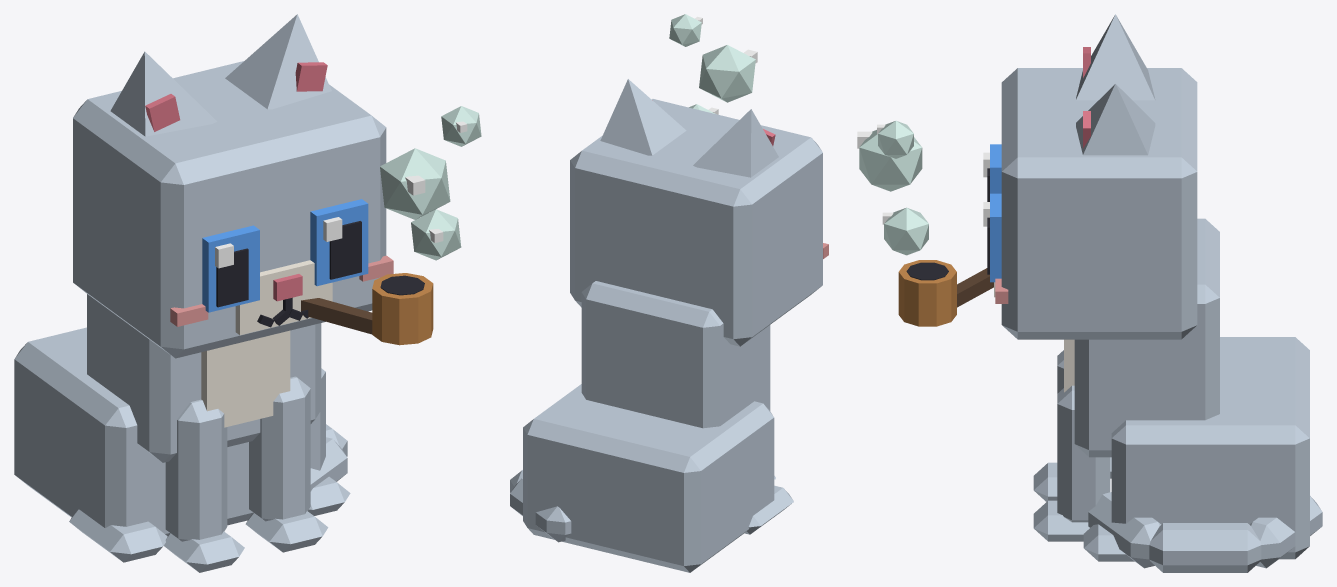
File: CatCafe_Cat_Bubbles_Sit.glb
3 views of the same model, side by side, from view 1: azimuth 30°, elevation 25°; view 2: azimuth 150°, elevation 25°; view 3: azimuth 270°, elevation 25° (orthographic). The views are drawn at different scales.
Visible parts, largest first — view 1: CatCafe_Cat_Bubbles_Sit_Head, CatCafe_Cat_Bubbles_Sit_Body, CatCafe_Cat_Bubbles_Sit_LegF2, CatCafe_Cat_Bubbles_Sit_LegF1, CatCafe_Cat_Bubbles_Sit_Prop_Glass, CatCafe_Cat_Bubbles_Sit_Prop, CatCafe_Cat_Bubbles_Sit_EarL, CatCafe_Cat_Bubbles_Sit_EarR, CatCafe_Cat_Bubbles_Sit_Eye2, CatCafe_Cat_Bubbles_Sit_Eye1, CatCafe_Cat_Bubbles_Sit_Tail; view 2: CatCafe_Cat_Bubbles_Sit_Body, CatCafe_Cat_Bubbles_Sit_Head, CatCafe_Cat_Bubbles_Sit_EarL, CatCafe_Cat_Bubbles_Sit_Prop_Glass, CatCafe_Cat_Bubbles_Sit_EarR, CatCafe_Cat_Bubbles_Sit_Tail; view 3: CatCafe_Cat_Bubbles_Sit_Head, CatCafe_Cat_Bubbles_Sit_Body, CatCafe_Cat_Bubbles_Sit_Tail, CatCafe_Cat_Bubbles_Sit_LegF1, CatCafe_Cat_Bubbles_Sit_Prop_Glass, CatCafe_Cat_Bubbles_Sit_Prop, CatCafe_Cat_Bubbles_Sit_EarL, CatCafe_Cat_Bubbles_Sit_EarR, CatCafe_Cat_Bubbles_Sit_Eye1, CatCafe_Cat_Bubbles_Sit_LegF2, CatCafe_Cat_Bubbles_Sit_Eye2.
Boxes of the visible parts, box(x1,y1,x2,y2) form: CatCafe_Cat_Bubbles_Sit_Head: box(73, 61, 393, 358); CatCafe_Cat_Bubbles_Sit_Body: box(14, 294, 350, 562); CatCafe_Cat_Bubbles_Sit_LegF2: box(164, 399, 244, 572); CatCafe_Cat_Bubbles_Sit_LegF1: box(245, 376, 328, 552); CatCafe_Cat_Bubbles_Sit_Prop_Glass: box(380, 106, 481, 260); CatCafe_Cat_Bubbles_Sit_Prop: box(301, 121, 467, 345); CatCafe_Cat_Bubbles_Sit_EarL: box(225, 14, 331, 109); CatCafe_Cat_Bubbles_Sit_EarR: box(110, 51, 216, 136); CatCafe_Cat_Bubbles_Sit_Eye2: box(202, 225, 259, 312); CatCafe_Cat_Bubbles_Sit_Eye1: box(310, 199, 368, 286); CatCafe_Cat_Bubbles_Sit_Tail: box(310, 424, 347, 491); CatCafe_Cat_Bubbles_Sit_Body: box(523, 281, 793, 572); CatCafe_Cat_Bubbles_Sit_Head: box(570, 99, 828, 346); CatCafe_Cat_Bubbles_Sit_EarL: box(600, 79, 686, 155); CatCafe_Cat_Bubbles_Sit_Prop_Glass: box(669, 14, 755, 113); CatCafe_Cat_Bubbles_Sit_EarR: box(693, 109, 778, 177); CatCafe_Cat_Bubbles_Sit_Tail: box(510, 470, 571, 542); CatCafe_Cat_Bubbles_Sit_Head: box(994, 68, 1197, 339); CatCafe_Cat_Bubbles_Sit_Body: box(1064, 218, 1309, 561); CatCafe_Cat_Bubbles_Sit_Tail: box(1088, 492, 1322, 572); CatCafe_Cat_Bubbles_Sit_LegF1: box(1033, 385, 1110, 541); CatCafe_Cat_Bubbles_Sit_Prop_Glass: box(859, 120, 928, 255); CatCafe_Cat_Bubbles_Sit_Prop: box(857, 124, 993, 326); CatCafe_Cat_Bubbles_Sit_EarL: box(1076, 84, 1155, 155); CatCafe_Cat_Bubbles_Sit_EarR: box(1076, 14, 1155, 100); CatCafe_Cat_Bubbles_Sit_Eye1: box(983, 193, 1001, 282); CatCafe_Cat_Bubbles_Sit_LegF2: box(1033, 350, 1063, 501); CatCafe_Cat_Bubbles_Sit_Eye2: box(983, 144, 1001, 201).
Size of the model in its own units: 1.05 by 1.85 by 1.67.
Materials: 1 (1 with a texture image).
